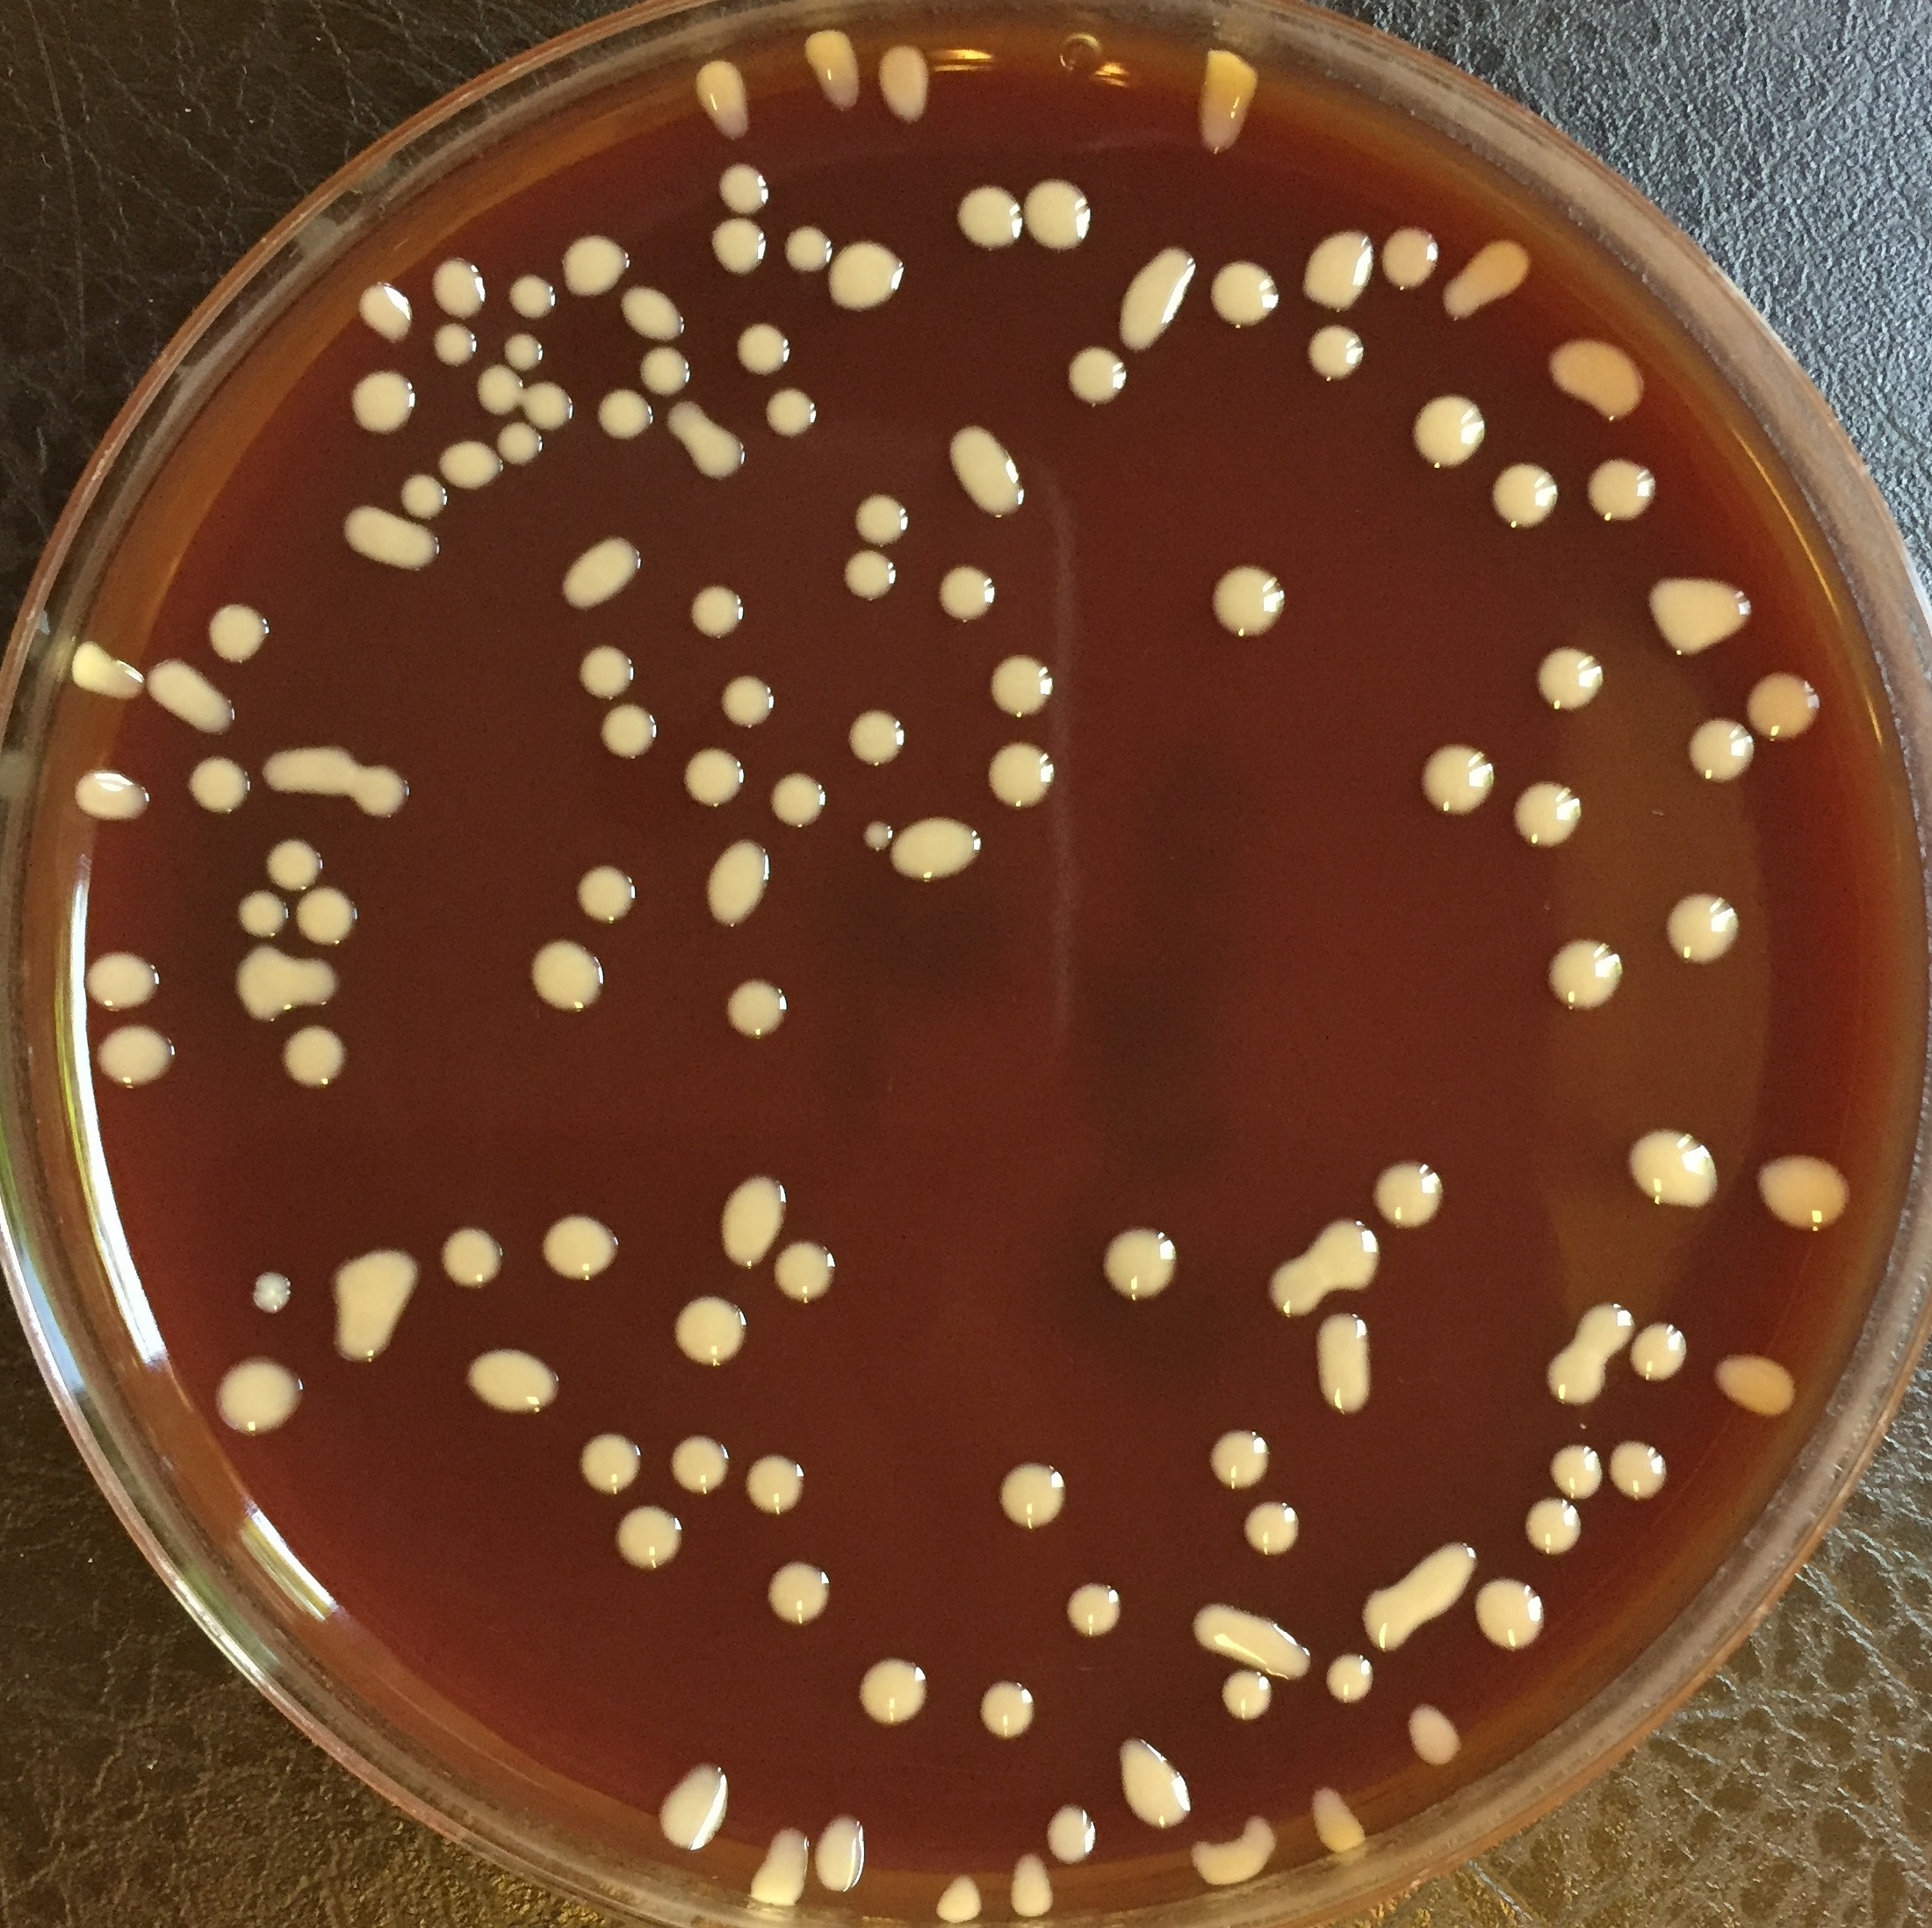sp19: (1632, 561, 1777, 660), (1358, 1531, 1476, 1647), (327, 1231, 426, 1368), (454, 1333, 585, 1425), (1111, 237, 1194, 371), (138, 651, 254, 745), (943, 406, 1033, 524), (1192, 39, 1273, 169), (208, 1352, 314, 1451), (1181, 1596, 1307, 1679), (1623, 1118, 1731, 1213), (1757, 1133, 1853, 1238), (1196, 560, 1302, 651), (1111, 1728, 1196, 1838), (650, 1741, 726, 1863), (1542, 332, 1642, 424), (535, 1197, 625, 1298), (887, 809, 984, 900), (1416, 727, 1501, 832), (334, 493, 438, 577), (1312, 1308, 1386, 1427), (1517, 641, 1614, 731), (1081, 1225, 1201, 1298), (1406, 380, 1492, 478), (1441, 231, 1535, 321), (837, 1638, 936, 1723), (712, 1162, 789, 1268), (660, 1423, 747, 1517), (60, 620, 143, 717), (88, 1022, 191, 1100), (1190, 1799, 1277, 1891), (1662, 883, 1747, 976), (1543, 927, 1628, 1020), (1748, 660, 1835, 750), (265, 715, 355, 802), (1204, 245, 1287, 339), (1501, 770, 1596, 851), (558, 526, 645, 614), (666, 397, 751, 487), (521, 936, 613, 1019), (74, 941, 170, 1020), (795, 16, 864, 125), (871, 26, 940, 136), (274, 1020, 366, 1102), (569, 1416, 650, 1506), (759, 1548, 842, 1635), (701, 833, 774, 932), (1300, 217, 1379, 307), (1021, 169, 1100, 260), (1362, 1148, 1457, 1222), (1482, 456, 1558, 547), (828, 230, 909, 314), (685, 51, 759, 141), (812, 1804, 876, 1909), (740, 1446, 816, 1533), (712, 968, 795, 1045), (1397, 1688, 1471, 1774), (775, 1222, 846, 1312), (671, 1287, 751, 1367), (1307, 1774, 1376, 1863), (959, 168, 1023, 263), (611, 1502, 687, 1582), (71, 752, 150, 828), (1307, 1208, 1381, 1289), (977, 740, 1060, 812), (825, 544, 908, 616), (440, 1218, 510, 1303), (346, 274, 415, 360), (196, 581, 274, 657), (556, 222, 629, 304), (1040, 1785, 1114, 1863), (1588, 457, 1662, 535), (426, 238, 493, 323), (180, 745, 254, 821), (1536, 1344, 1614, 1416), (968, 1674, 1045, 1746), (1063, 337, 1134, 417), (991, 1457, 1081, 1518), (678, 740, 751, 816), (985, 646, 1056, 722), (751, 1817, 807, 1910), (337, 367, 420, 431), (1241, 1499, 1312, 1573), (565, 853, 636, 927), (355, 747, 424, 823), (1605, 1432, 1672, 1508), (1482, 1573, 1543, 1654), (588, 699, 660, 768), (1731, 1337, 1798, 1411), (685, 569, 752, 643), (1196, 1421, 1280, 1480), (1377, 215, 1441, 293), (1065, 1568, 1127, 1647), (1687, 712, 1757, 780), (705, 212, 774, 282), (298, 877, 366, 950), (712, 666, 784, 733), (934, 561, 1003, 630), (231, 941, 290, 1022), (565, 637, 646, 696), (1309, 323, 1376, 392), (1639, 1303, 1694, 1386), (766, 763, 832, 832), (1526, 1499, 1595, 1563), (260, 832, 330, 893), (434, 436, 503, 498), (244, 1255, 306, 1322), (1001, 1847, 1070, 1907), (846, 699, 902, 768), (715, 152, 775, 215), (1326, 1647, 1381, 1716), (620, 288, 691, 341), (735, 320, 793, 383), (782, 215, 839, 281), (1220, 1672, 1280, 1732), (931, 1859, 991, 1919), (853, 486, 913, 546), (1566, 1294, 1632, 1347), (634, 344, 699, 397), (761, 387, 828, 438), (593, 388, 655, 443), (1547, 1442, 1605, 1499), (1266, 1250, 1317, 1312), (394, 464, 445, 524), (286, 959, 350, 1005), (224, 886, 281, 938), (493, 429, 549, 475), (509, 270, 556, 323), (477, 367, 528, 415), (533, 373, 577, 426), (502, 328, 551, 373), (434, 323, 479, 369), (860, 814, 888, 847)
